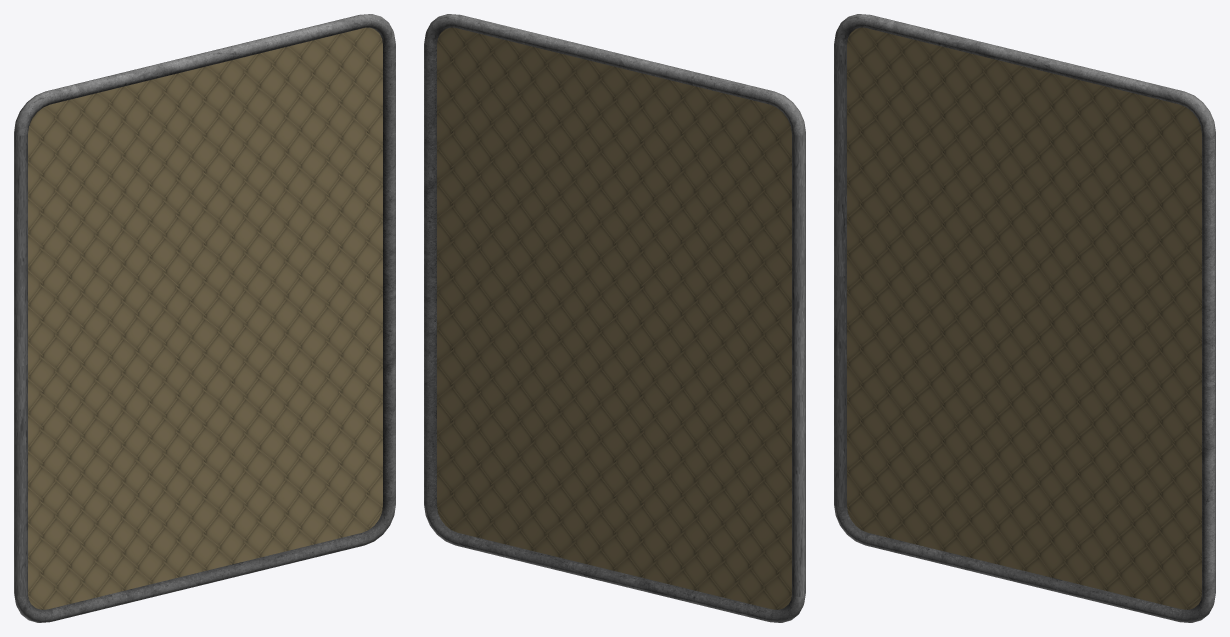
Rendered from fencing_round_rectangle_large.dae.
3 views of the same model, side by side, from view 1: azimuth 30°, elevation 25°; view 2: azimuth 150°, elevation 25°; view 3: azimuth 330°, elevation 25° (orthographic).
Parts seen in each view (by area): view 1: rectangle_large, fence; view 2: rectangle_large, fence; view 3: rectangle_large, fence.
Part boxes in pixels (left/top/right/bottom): rectangle_large: left=28, top=27, right=382, bottom=609; fence: left=14, top=14, right=395, bottom=622; rectangle_large: left=437, top=27, right=791, bottom=609; fence: left=424, top=14, right=805, bottom=622; rectangle_large: left=847, top=27, right=1201, bottom=609; fence: left=834, top=14, right=1215, bottom=622.
Bounding box in the file's own units: 225 × 300 × 7.42.
